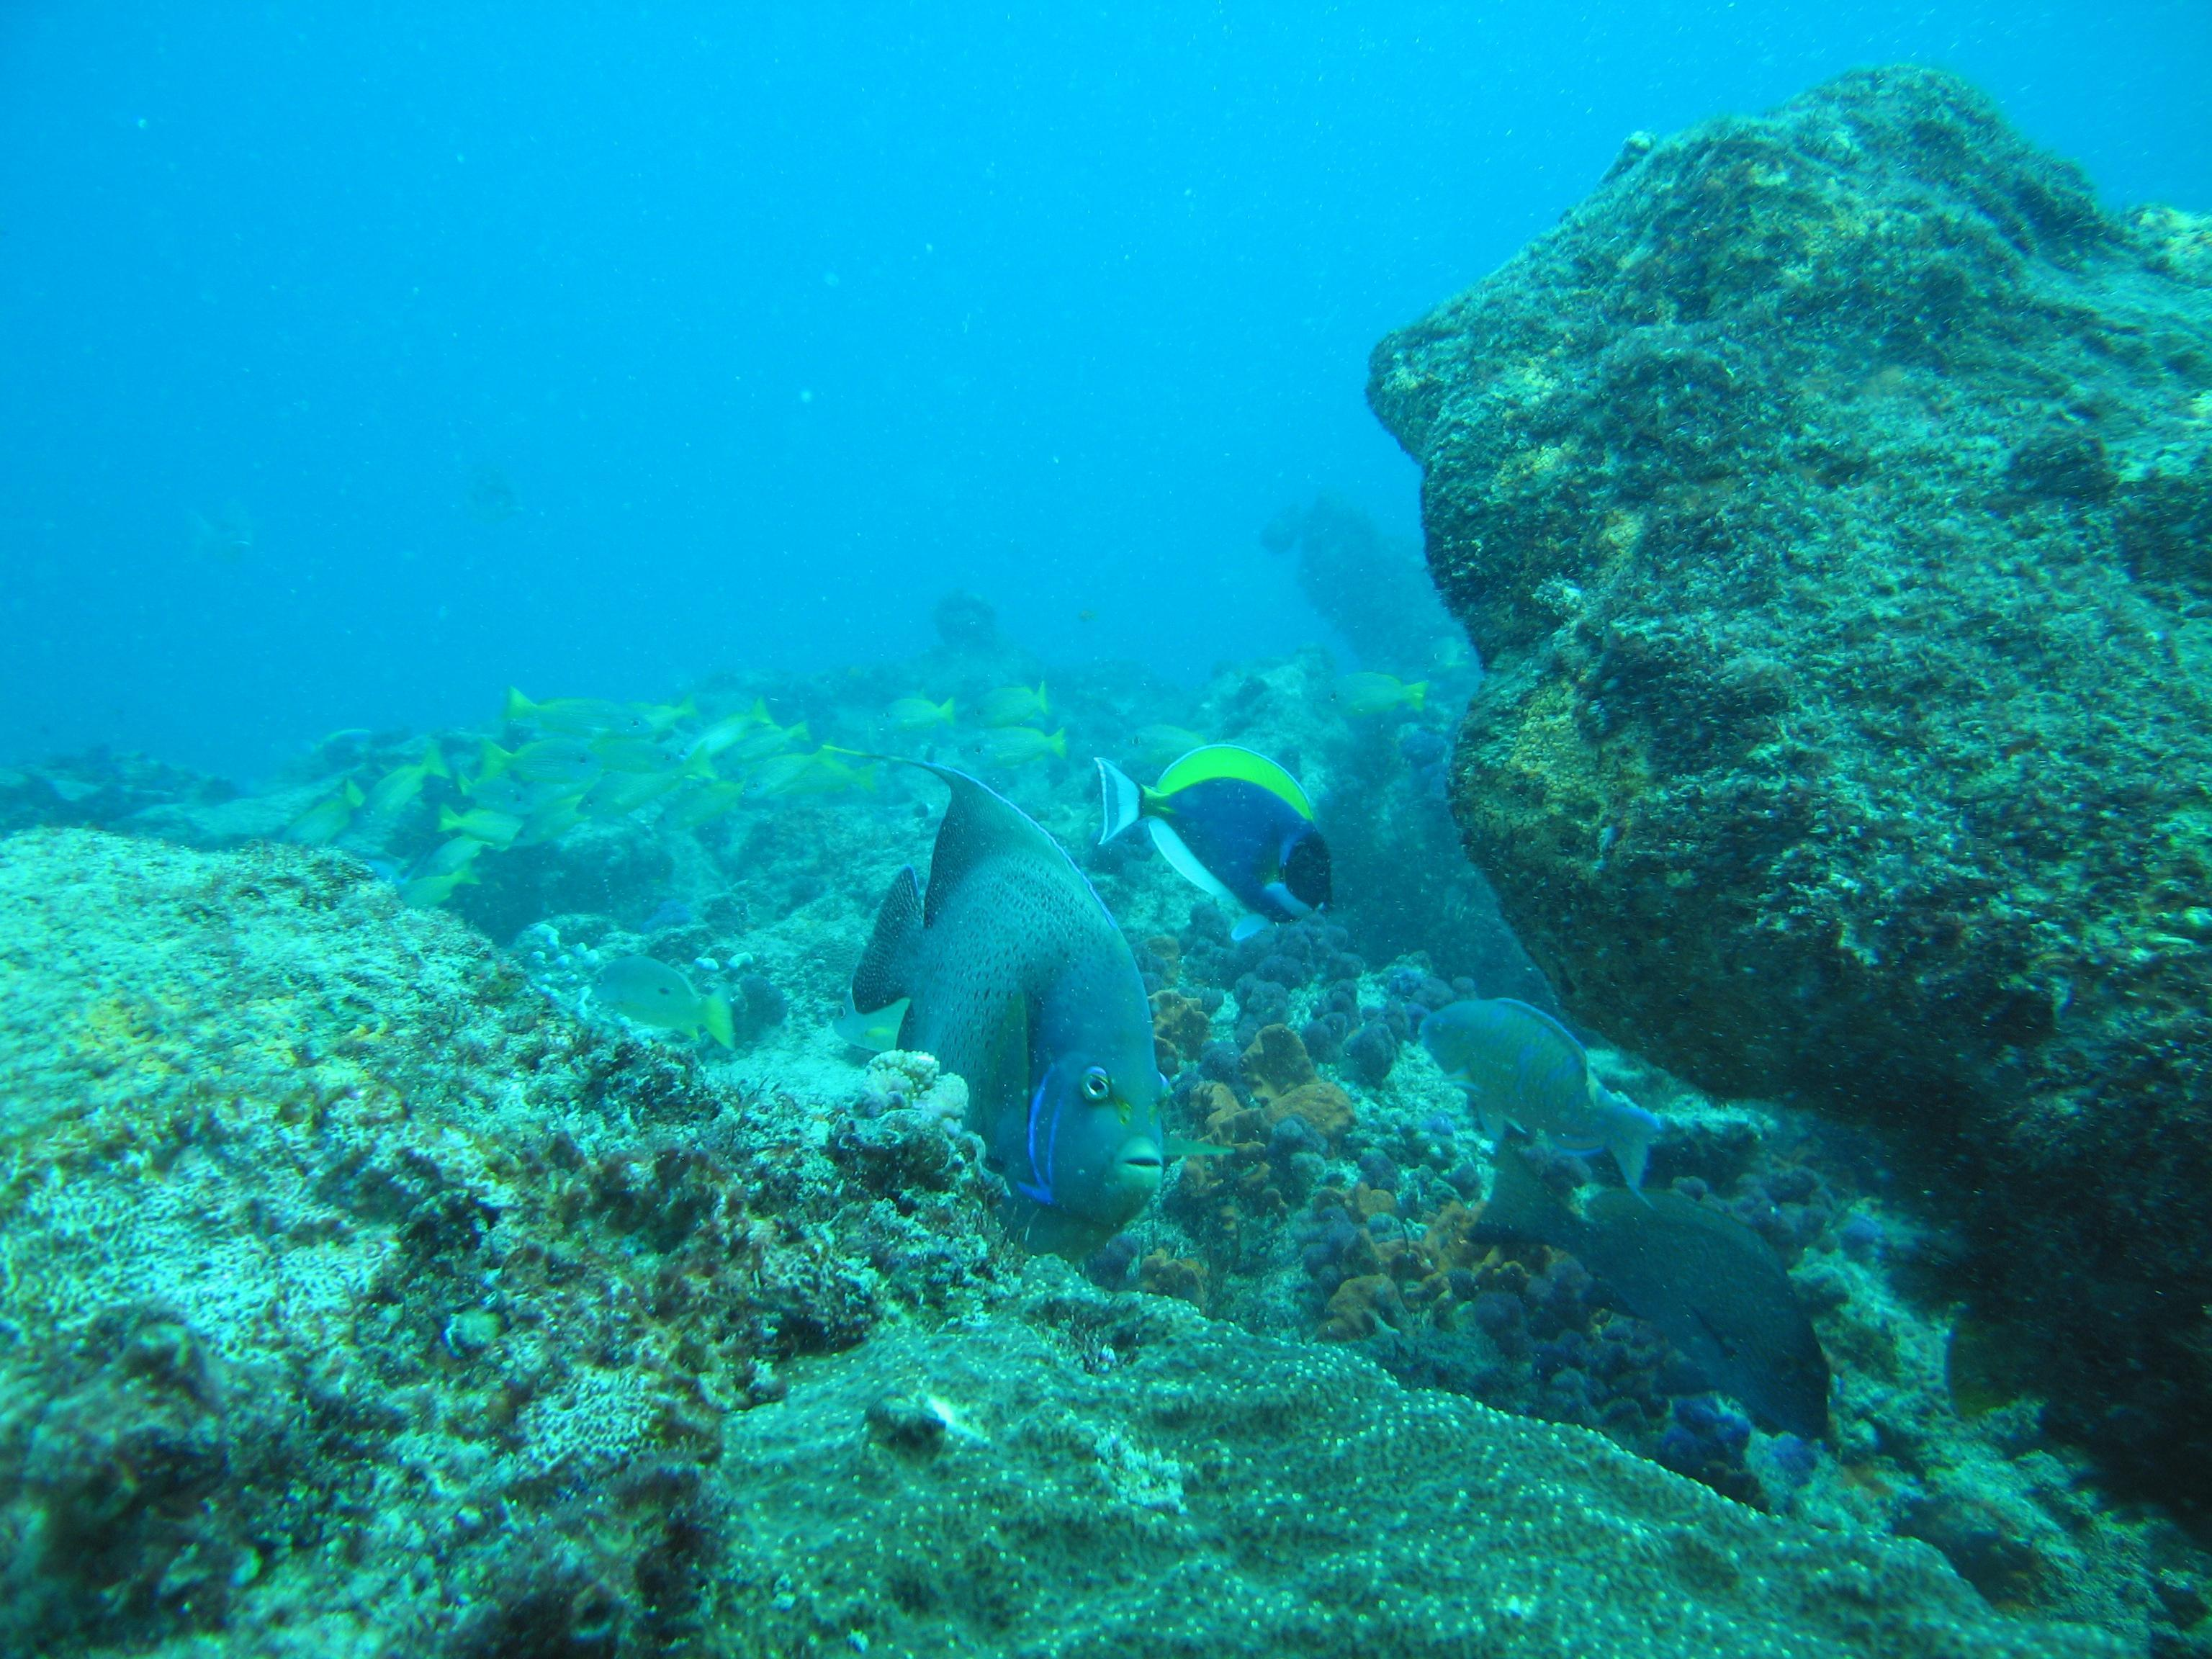Fish: (1071, 692, 1426, 953)
